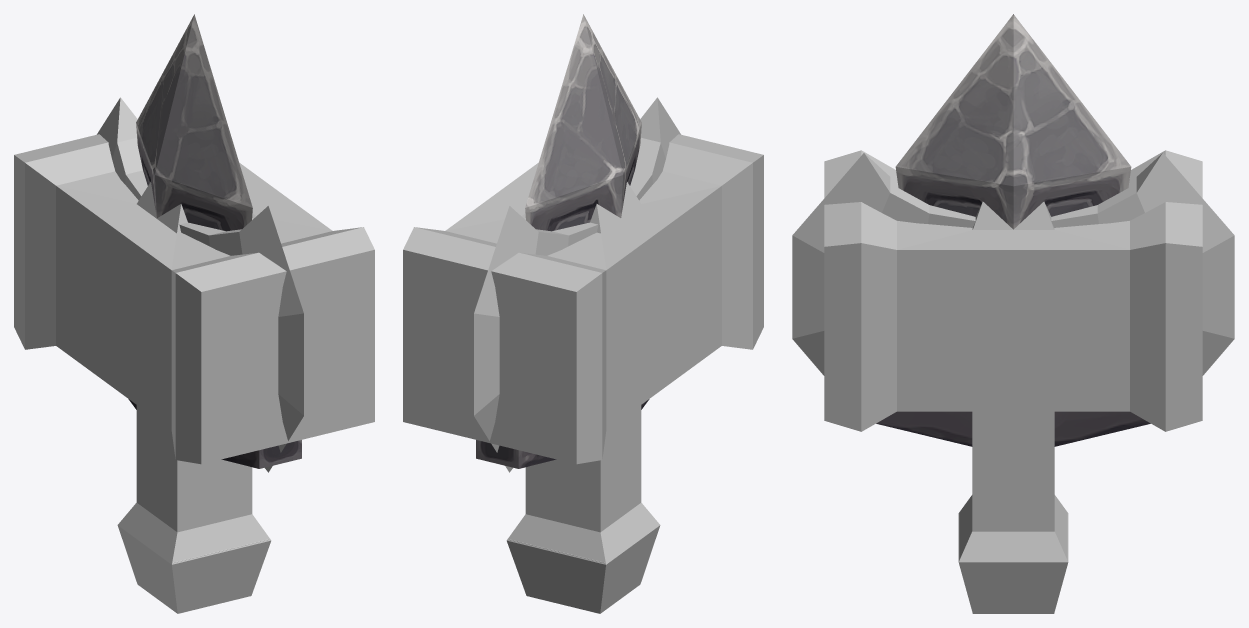
File: weapons.fbx
3 renders of one model, left to right at view 1: azimuth 30°, elevation 25°; view 2: azimuth 150°, elevation 25°; view 3: azimuth 270°, elevation 25°, orthographic.
Visible parts, largest first — view 1: hammer1, sword1, axe1; view 2: hammer1, sword1, axe1; view 3: hammer1, sword1, axe1.
Part boxes in pixels (box(x1,y1,x2,y2)): hammer1: box(14, 134, 374, 613); sword1: box(128, 14, 301, 468); axe1: box(97, 97, 303, 562); hammer1: box(403, 134, 763, 613); sword1: box(476, 14, 649, 468); axe1: box(474, 97, 680, 562); hammer1: box(824, 150, 1202, 613); sword1: box(876, 14, 1150, 446); axe1: box(792, 153, 1234, 559).
Bounding box in the file's own units: 1.16 × 3.41 × 2.35.
